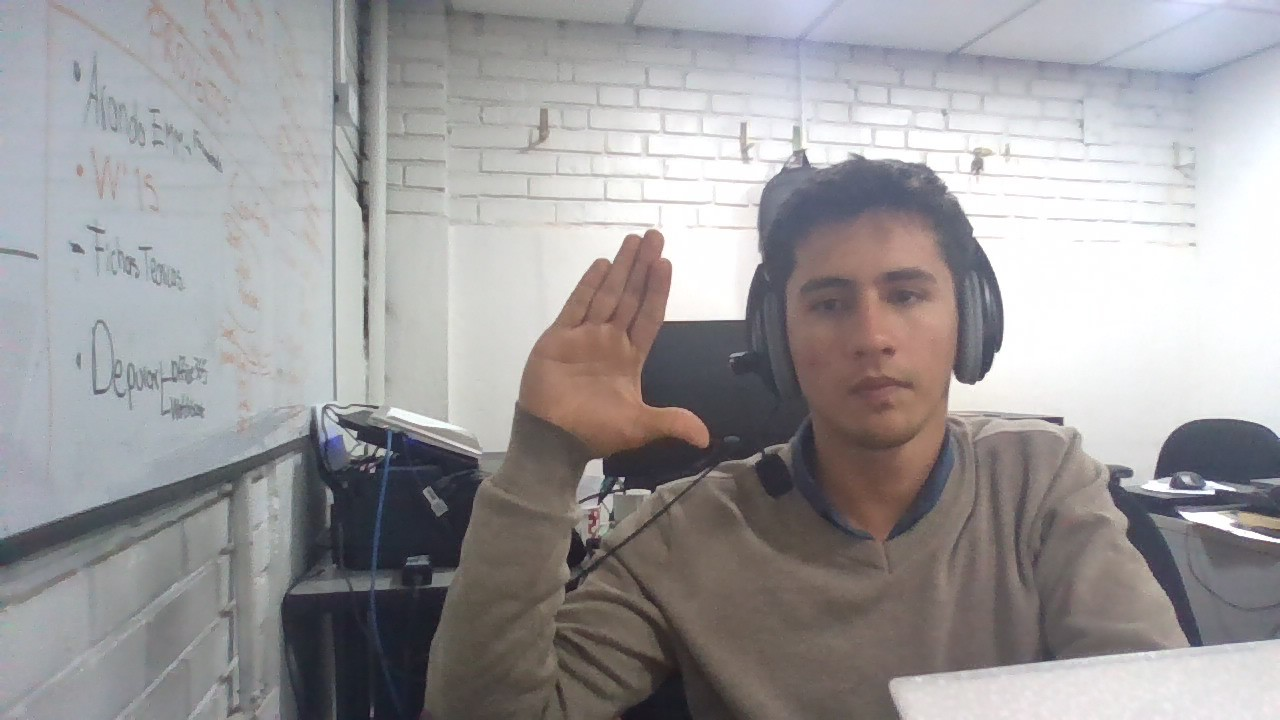hola: (516, 221, 721, 470)
